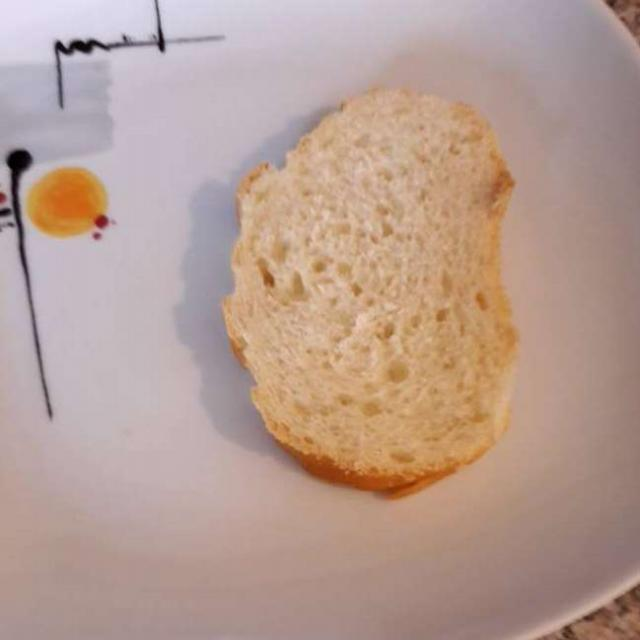bread: (226, 92, 514, 486)
